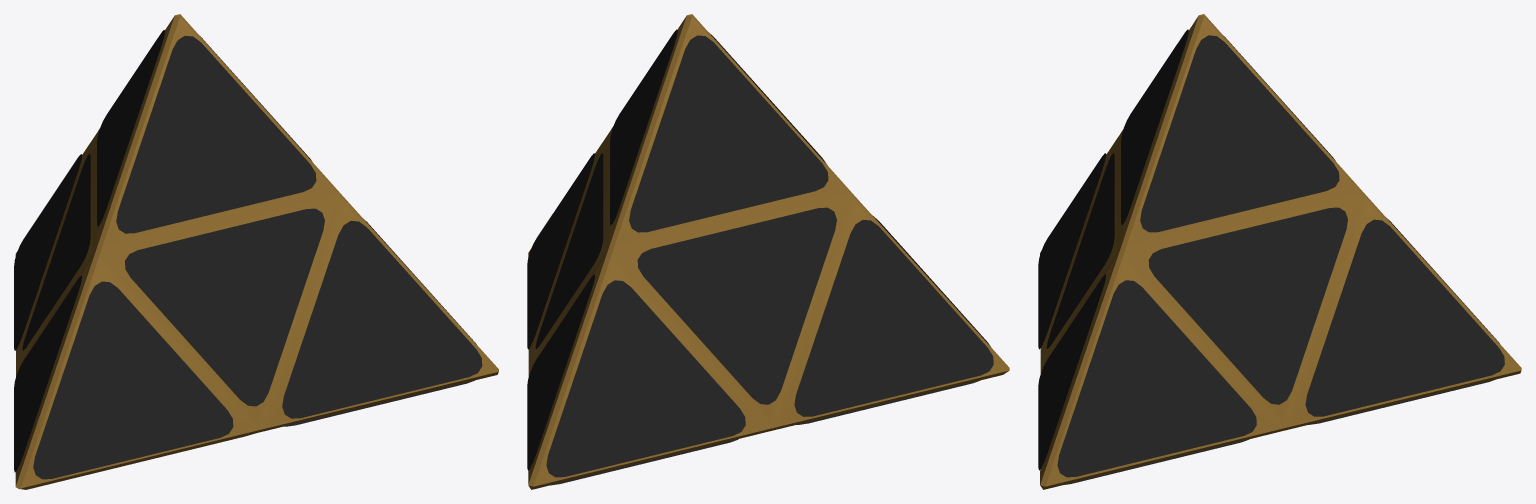
File: piramide antisemita del porcodiddiV3.fbx
3 views of the same model, side by side, from view 1: azimuth 30°, elevation 25°; view 2: azimuth 150°, elevation 25°; view 3: azimuth 270°, elevation 25° (orthographic).
Parts seen in each view (by area): view 1: piramide antisemita del porcodiddi.032, piramide antisemita del porcodiddi.001; view 2: piramide antisemita del porcodiddi.001; view 3: piramide antisemita del porcodiddi.001, piramide antisemita del porcodiddi.032.
Boxes of the visible parts, bbox=[...] form: piramide antisemita del porcodiddi.032: bbox=[33, 35, 482, 479]; piramide antisemita del porcodiddi.001: bbox=[14, 14, 498, 489]; piramide antisemita del porcodiddi.001: bbox=[527, 14, 1009, 489]; piramide antisemita del porcodiddi.001: bbox=[1040, 14, 1521, 489]; piramide antisemita del porcodiddi.032: bbox=[1038, 29, 1499, 483].
Size of the model in its own units: 170 by 122 by 148.
